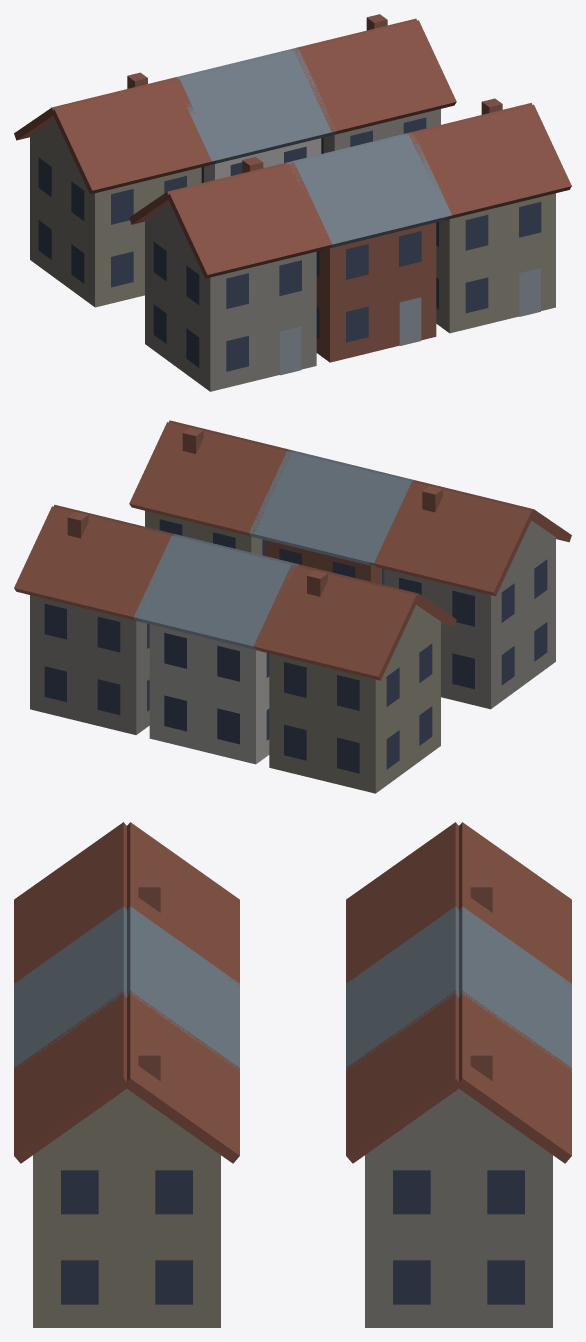
Rendered from house_lvl2.glb.
The picture shows the model from 3 angles, top to bottom: view 1: azimuth 30°, elevation 25°; view 2: azimuth 150°, elevation 25°; view 3: azimuth 270°, elevation 25°; orthographic projection. The views are drawn at different scales.
Visible parts, largest first — view 1: house; view 2: house; view 3: house.
Part boxes in pixels (bbox=[...]): house: bbox=[14, 14, 571, 391]; house: bbox=[14, 420, 571, 793]; house: bbox=[14, 822, 571, 1327].
Bounding box in the file's own units: 1 × 0.4739 × 0.92.
